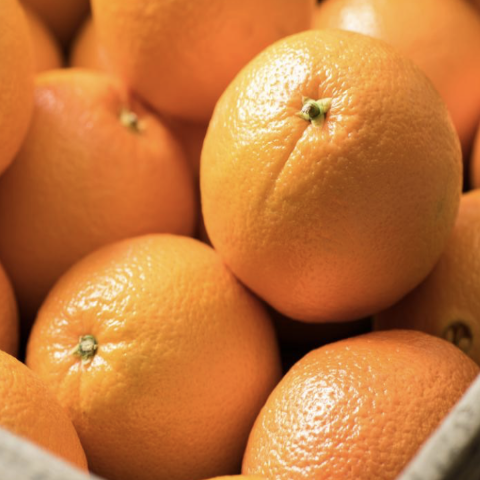orange: (184, 3, 471, 335), (8, 206, 294, 480)
